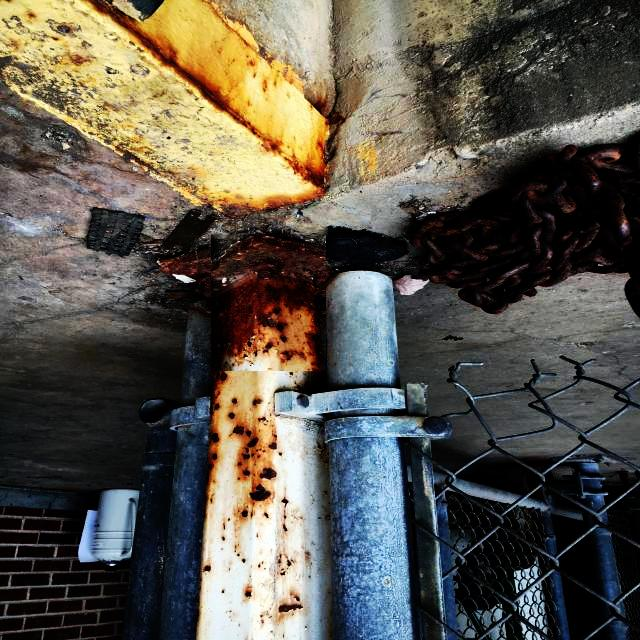Corrosion: (413, 136, 640, 314), (157, 234, 331, 296), (126, 38, 234, 112), (212, 276, 275, 357), (221, 182, 325, 220), (262, 153, 327, 185), (274, 282, 314, 309), (221, 112, 261, 134), (91, 10, 140, 25), (316, 302, 326, 370), (100, 20, 142, 35), (211, 346, 224, 381), (234, 448, 256, 466), (250, 486, 271, 502), (281, 352, 306, 363), (279, 604, 302, 614), (263, 342, 276, 357), (212, 402, 222, 419), (260, 468, 277, 478), (238, 470, 249, 480), (276, 322, 287, 331), (216, 372, 227, 381), (248, 438, 257, 448), (233, 426, 242, 435), (210, 434, 219, 442), (218, 522, 227, 530), (208, 462, 213, 474), (281, 334, 288, 342), (228, 412, 235, 420), (268, 444, 277, 450), (257, 418, 266, 424), (203, 566, 210, 573), (245, 592, 252, 599), (245, 430, 252, 437), (242, 510, 248, 518), (253, 399, 262, 404), (232, 398, 238, 405), (211, 454, 217, 460), (282, 500, 287, 507), (219, 538, 225, 542), (264, 514, 268, 519)
